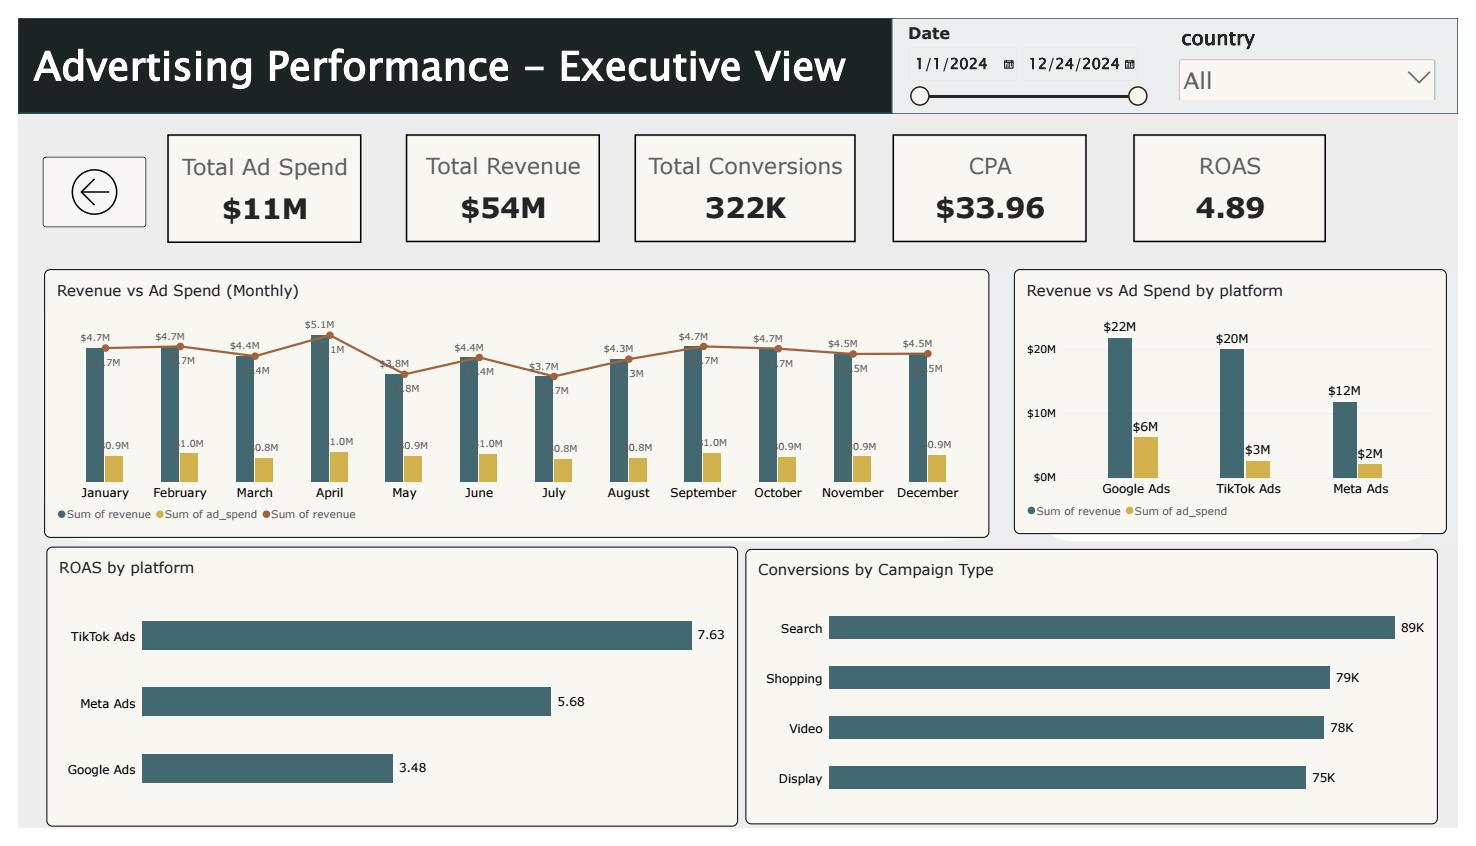

Layout of this report page (visuals, bound fields, positions):
{"tool":"powerbi","page":{"name":"Executive Overview","canvas":[1920,1080],"ordinal":1},"visuals":[{"type":"shape","box":[0,0,1164.5,126.8],"z":0},{"type":"shape","box":[1165,0,755,127.5],"z":1000},{"type":"cardVisual","fields":{"Data":["ads measures.Total Ad Spend"]},"box":[198.6,155.2,259.3,144.8],"z":2000},{"type":"cardVisual","fields":{"Data":["ads measures.Total Revenue"]},"box":[516.5,155,259,144],"z":3000},{"type":"cardVisual","fields":{"Data":["ads measures.Total Conversions"]},"box":[821.7,155,295,144],"z":4000},{"type":"cardVisual","fields":{"Data":["ads measures.CPA"]},"box":[1165.7,154.5,259.6,144.7],"z":5000},{"type":"cardVisual","fields":{"Data":["ads measures.ROAS"]},"box":[1486.9,154.5,257.2,144.8],"z":6000},{"type":"shape","box":[30,340,1890,358.6],"z":7000},{"type":"shape","box":[34,340,1260,358],"z":8000},{"type":"shape","box":[1347.5,340,555,357.5],"z":9000},{"type":"lineClusteredColumnComboChart","title":"Revenue vs Ad Spend (Monthly)","fields":{"Category":["global_ads_performance_dataset.date.Variation.Date Hierarchy.Month"],"Y":["Sum(global_ads_performance_dataset.revenue)","Sum(global_ads_performance_dataset.ad_spend)"],"Y2":["Sum(global_ads_performance_dataset.revenue)"]},"box":[35,335,1260,357.5],"z":10000},{"type":"barChart","fields":{"Category":["global_ads_performance_dataset.platform"],"Y":["ads measures.ROAS"]},"box":[37.5,705,922.5,372.5],"z":11000},{"type":"clusteredColumnChart","title":"Revenue vs Ad Spend by platform","fields":{"Category":["global_ads_performance_dataset.platform"],"Y":["Sum(global_ads_performance_dataset.revenue)","Sum(global_ads_performance_dataset.ad_spend)"]},"box":[1327.5,335,577.5,352.5],"z":12000},{"type":"clusteredBarChart","title":"Conversions by Campaign Type","fields":{"Category":["global_ads_performance_dataset.campaign_type"],"Y":["Sum(global_ads_performance_dataset.conversions)"]},"box":[970,707.5,922.5,367.5],"z":13000},{"type":"slicer","fields":{"Values":["global_ads_performance_dataset.country"]},"box":[1542.5,7,352.2,102.2],"z":14000},{"type":"slicer","fields":{"Values":["global_ads_performance_dataset.date"]},"box":[1178.6,7,335.1,147.7],"z":15000},{"type":"actionButton","box":[32.9,185.5,138.5,93.9],"z":16000},{"type":"textbox","box":[21.1,25,1185.7,155],"z":17000}]}

Visuals, with their boxes in screenshot pixels (x1, y1, x2, y2), scaled from the page's 1920x1080 canvas onto the 1476x846 screenshot:
shape: x1=0 y1=0 x2=895 y2=99
shape: x1=896 y1=0 x2=1475 y2=100
cardVisual - ads measures.Total Ad Spend: x1=153 y1=122 x2=352 y2=235
cardVisual - ads measures.Total Revenue: x1=397 y1=121 x2=596 y2=234
cardVisual - ads measures.Total Conversions: x1=632 y1=121 x2=858 y2=234
cardVisual - ads measures.CPA: x1=896 y1=121 x2=1096 y2=234
cardVisual - ads measures.ROAS: x1=1143 y1=121 x2=1341 y2=234
shape: x1=23 y1=266 x2=1475 y2=547
shape: x1=26 y1=266 x2=995 y2=547
shape: x1=1036 y1=266 x2=1463 y2=546
"Revenue vs Ad Spend (Monthly)" lineClusteredColumnComboChart: x1=27 y1=262 x2=996 y2=542
barChart - global_ads_performance_dataset.platform x ads measures.ROAS: x1=29 y1=552 x2=738 y2=844
"Revenue vs Ad Spend by platform" clusteredColumnChart: x1=1021 y1=262 x2=1464 y2=539
"Conversions by Campaign Type" clusteredBarChart: x1=746 y1=554 x2=1455 y2=842
slicer - global_ads_performance_dataset.country: x1=1186 y1=5 x2=1457 y2=86
slicer - global_ads_performance_dataset.date: x1=906 y1=5 x2=1164 y2=121
actionButton: x1=25 y1=145 x2=132 y2=219
textbox: x1=16 y1=20 x2=928 y2=141
